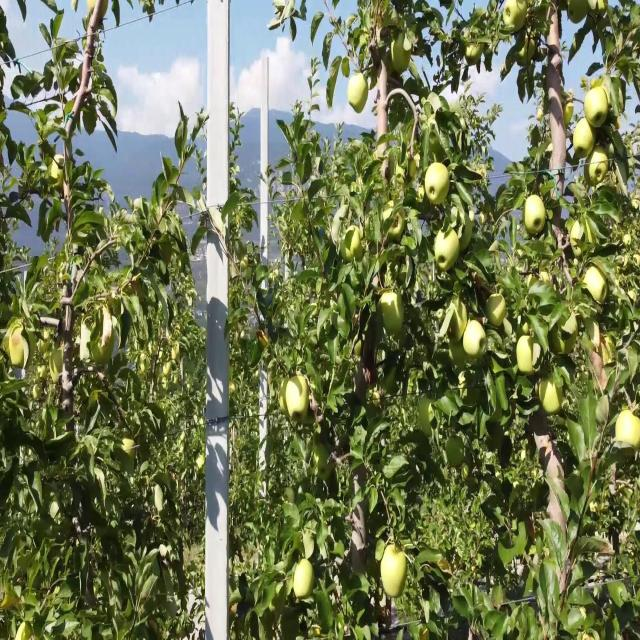apple: (552, 312, 580, 356), (580, 263, 608, 306), (384, 547, 408, 597), (284, 376, 310, 421), (584, 85, 609, 130), (380, 291, 405, 336), (516, 334, 542, 377), (436, 227, 460, 272), (428, 163, 452, 208), (464, 319, 488, 363), (524, 199, 548, 240), (616, 412, 640, 452), (540, 376, 564, 416), (448, 298, 469, 341), (588, 149, 609, 190), (576, 120, 596, 162), (572, 220, 594, 258), (392, 35, 412, 75), (92, 334, 115, 368), (296, 561, 316, 599), (348, 78, 368, 114), (488, 291, 508, 327), (448, 341, 469, 372), (268, 584, 287, 617), (504, 7, 527, 34), (348, 227, 365, 263), (600, 334, 617, 368), (420, 398, 435, 436), (584, 319, 600, 354), (460, 220, 475, 256), (12, 334, 27, 370), (388, 213, 405, 244), (312, 447, 329, 475), (516, 35, 529, 68), (568, 7, 589, 27), (548, 63, 561, 91), (384, 369, 397, 396), (564, 99, 576, 128), (468, 42, 481, 68), (548, 92, 561, 117), (408, 156, 421, 180), (568, 149, 581, 171), (528, 35, 538, 62), (368, 71, 379, 92), (484, 49, 494, 71), (172, 341, 181, 363), (340, 248, 353, 263), (164, 362, 173, 379), (344, 63, 352, 78), (312, 625, 321, 638), (540, 106, 545, 121), (232, 383, 237, 396)
